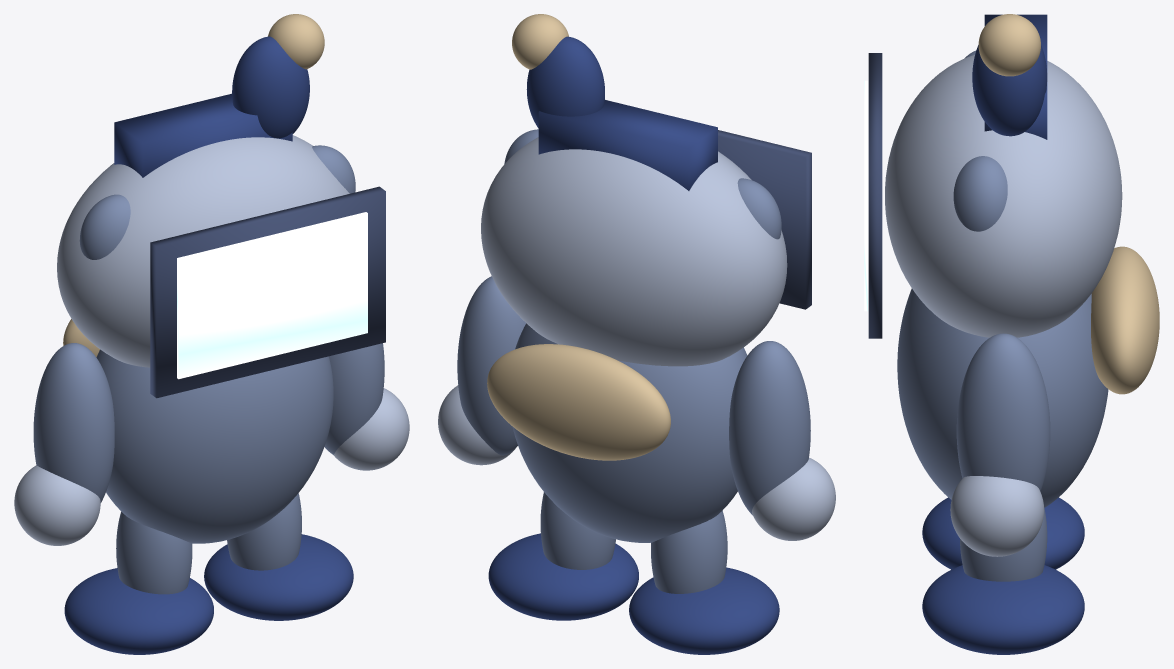
The model's file is dozer.glb.
3 renders of one model, left to right at view 1: azimuth 30°, elevation 25°; view 2: azimuth 150°, elevation 25°; view 3: azimuth 270°, elevation 25°, orthographic. The views are drawn at different scales.
Visible parts, largest first — view 1: body, head, face_screen, face_frame, arm_L, foot_L, foot_R, nightcap_body, nightcap_tip, hand_L, leg_L, arm_R (+5 smaller); view 2: head, body, pillow, arm_L, foot_L, nightcap_body, foot_R, face_frame, arm_R, nightcap_tip, leg_L, hand_L (+4 smaller); view 3: head, body, arm_R, foot_R, pillow, hand_R, nightcap_tip, face_frame, foot_L, ear_R, nightcap_pom, leg_R (+2 smaller).
Part boxes in pixels (x1,y1,x2,y2): body: (96, 349, 333, 543); head: (57, 135, 349, 367); face_screen: (177, 212, 367, 379); face_frame: (150, 186, 385, 398); arm_L: (33, 343, 114, 502); foot_L: (64, 568, 213, 654); foot_R: (204, 534, 353, 620); nightcap_body: (114, 93, 292, 177); nightcap_tip: (232, 36, 309, 138); hand_L: (14, 465, 100, 545); leg_L: (116, 511, 192, 594); arm_R: (324, 343, 384, 454); head: (481, 137, 787, 366); body: (512, 323, 747, 542); pillow: (487, 344, 670, 460); arm_L: (729, 341, 810, 515); foot_L: (629, 567, 779, 654); nightcap_body: (538, 100, 717, 190); foot_R: (488, 533, 638, 620); face_frame: (718, 130, 811, 309); arm_R: (457, 276, 526, 455); nightcap_tip: (526, 36, 604, 128); leg_L: (651, 511, 727, 593); hand_L: (752, 457, 835, 540); head: (885, 54, 1122, 337); body: (897, 288, 1108, 507); arm_R: (956, 333, 1050, 491); foot_R: (922, 565, 1084, 654); pillow: (1091, 246, 1159, 394); hand_R: (950, 476, 1043, 556); nightcap_tip: (972, 45, 1047, 136); face_frame: (868, 53, 882, 338); foot_L: (922, 497, 1084, 569); ear_R: (953, 156, 1007, 231); nightcap_pom: (978, 14, 1040, 76); leg_R: (960, 507, 1047, 581).
Size of the model in its own units: 0.7425 by 1.08 by 0.4561.
